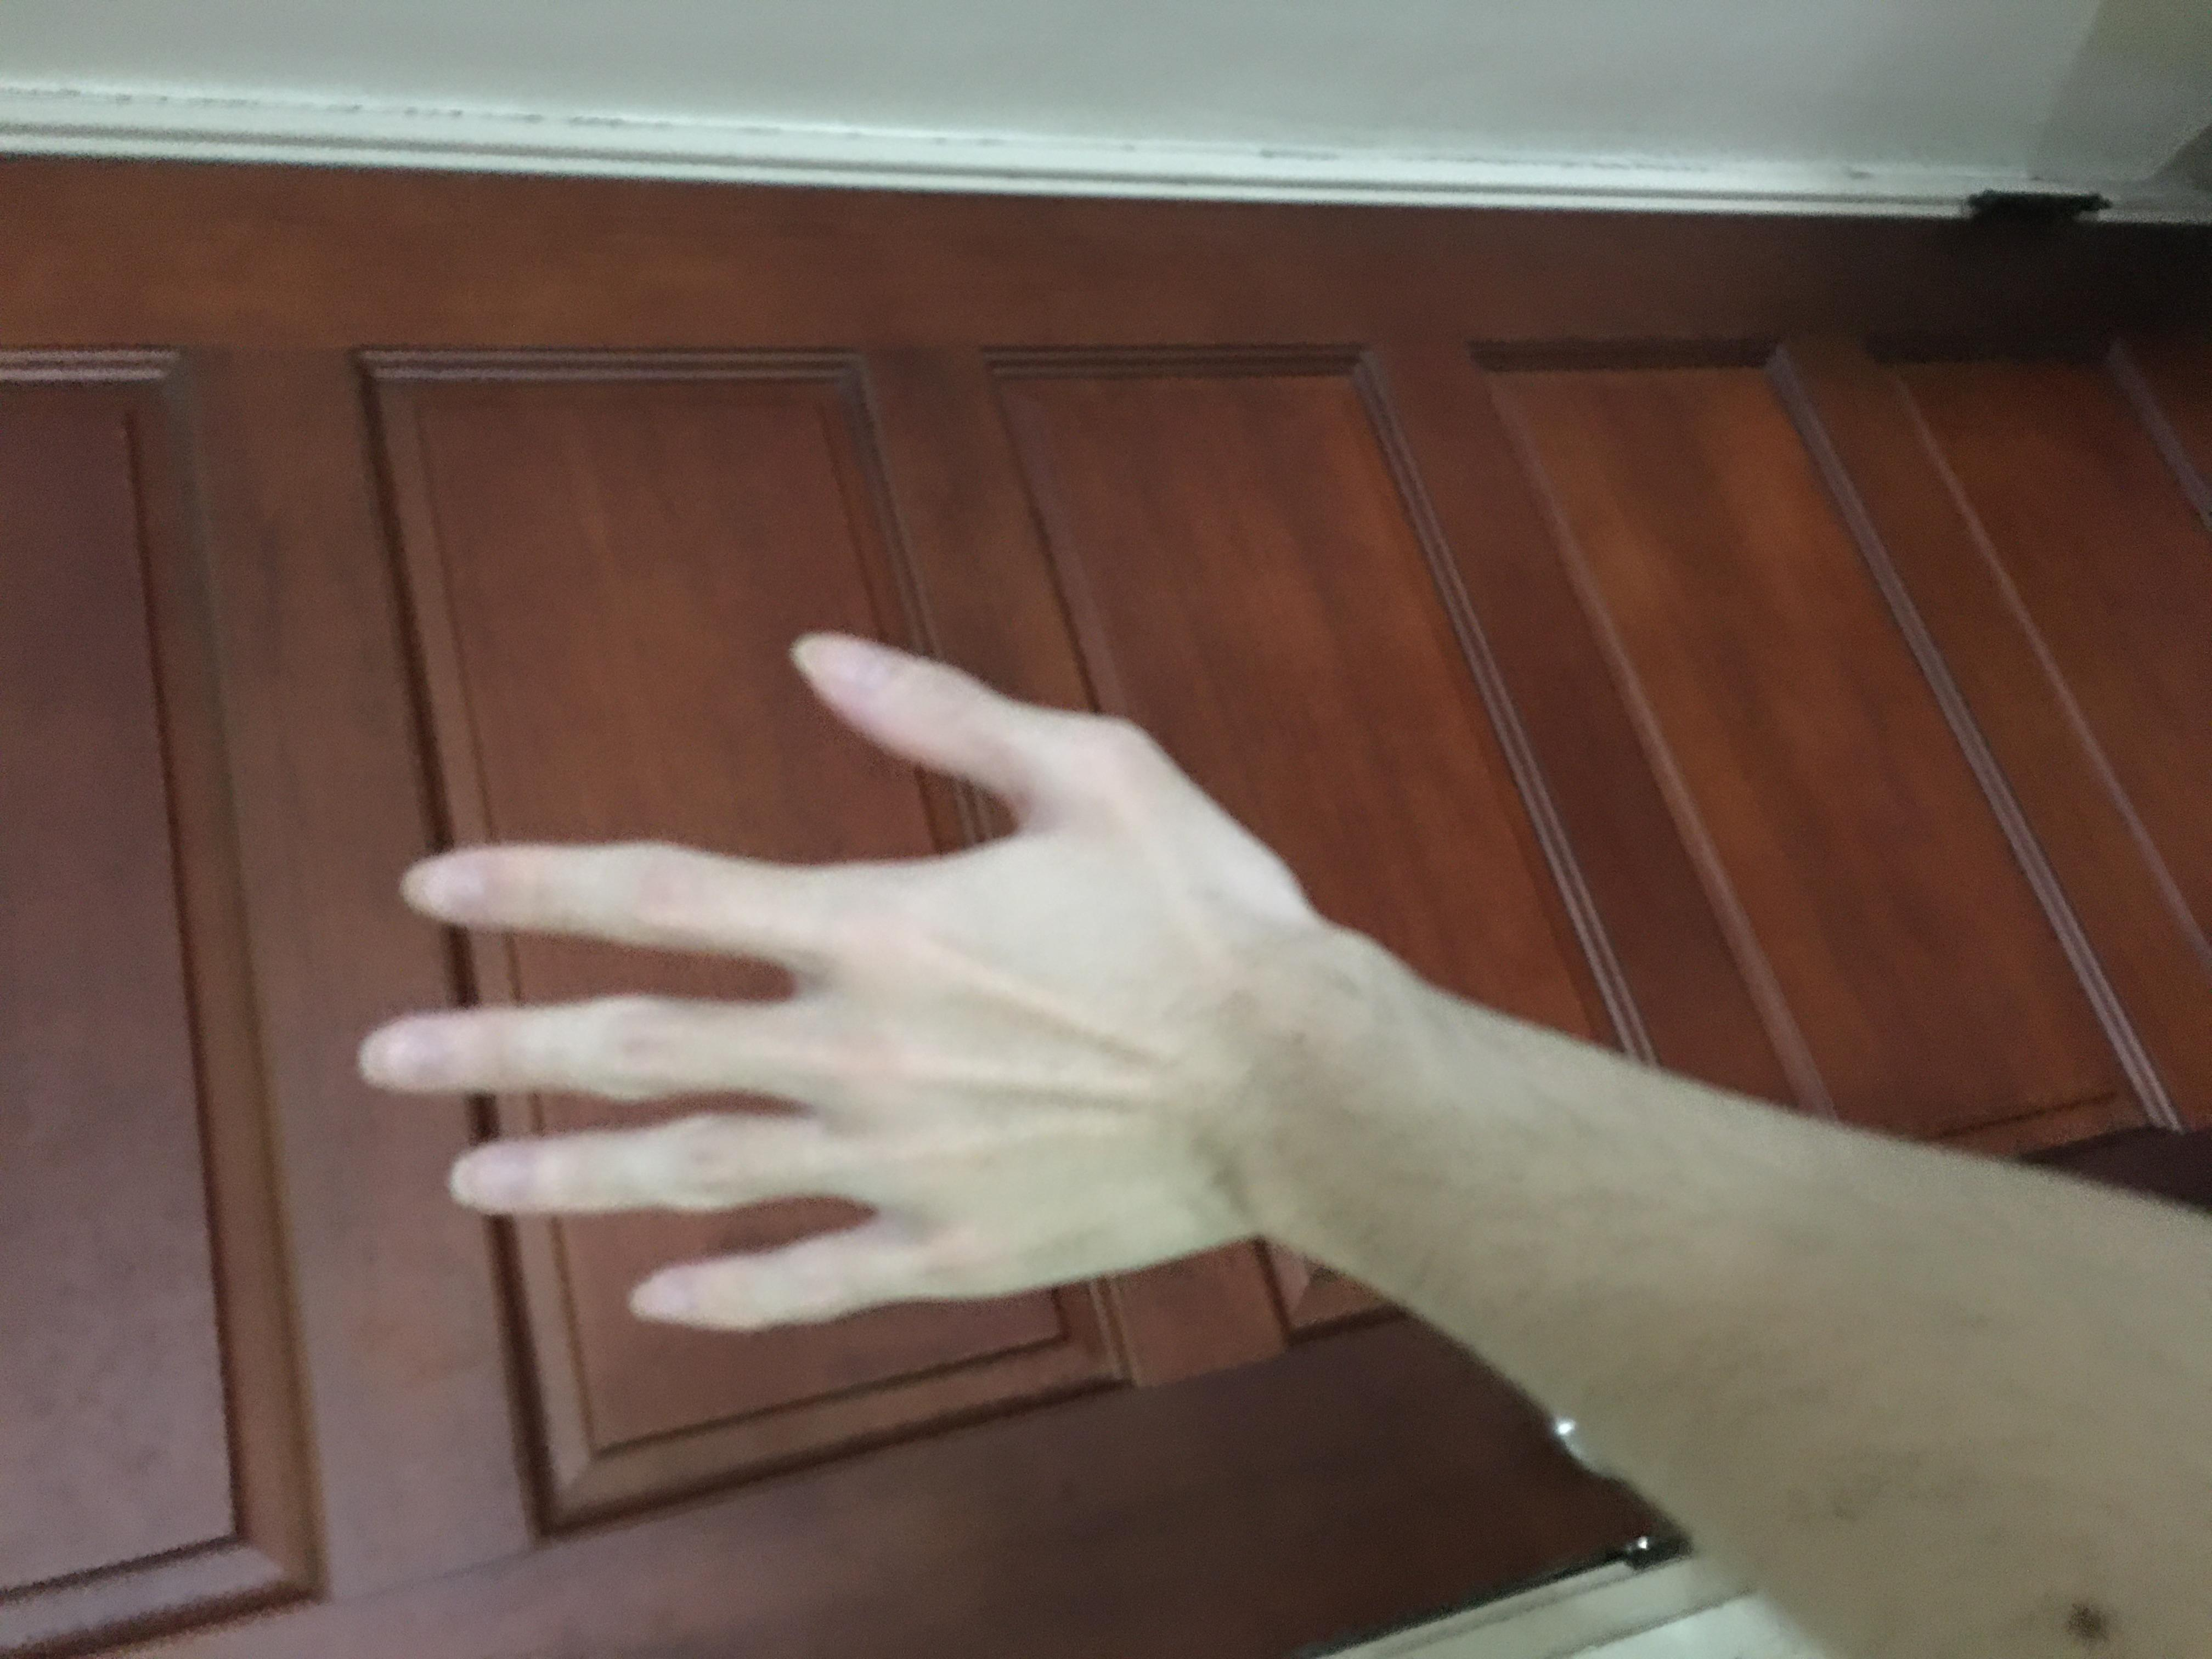hand: (419, 260, 1367, 970)
